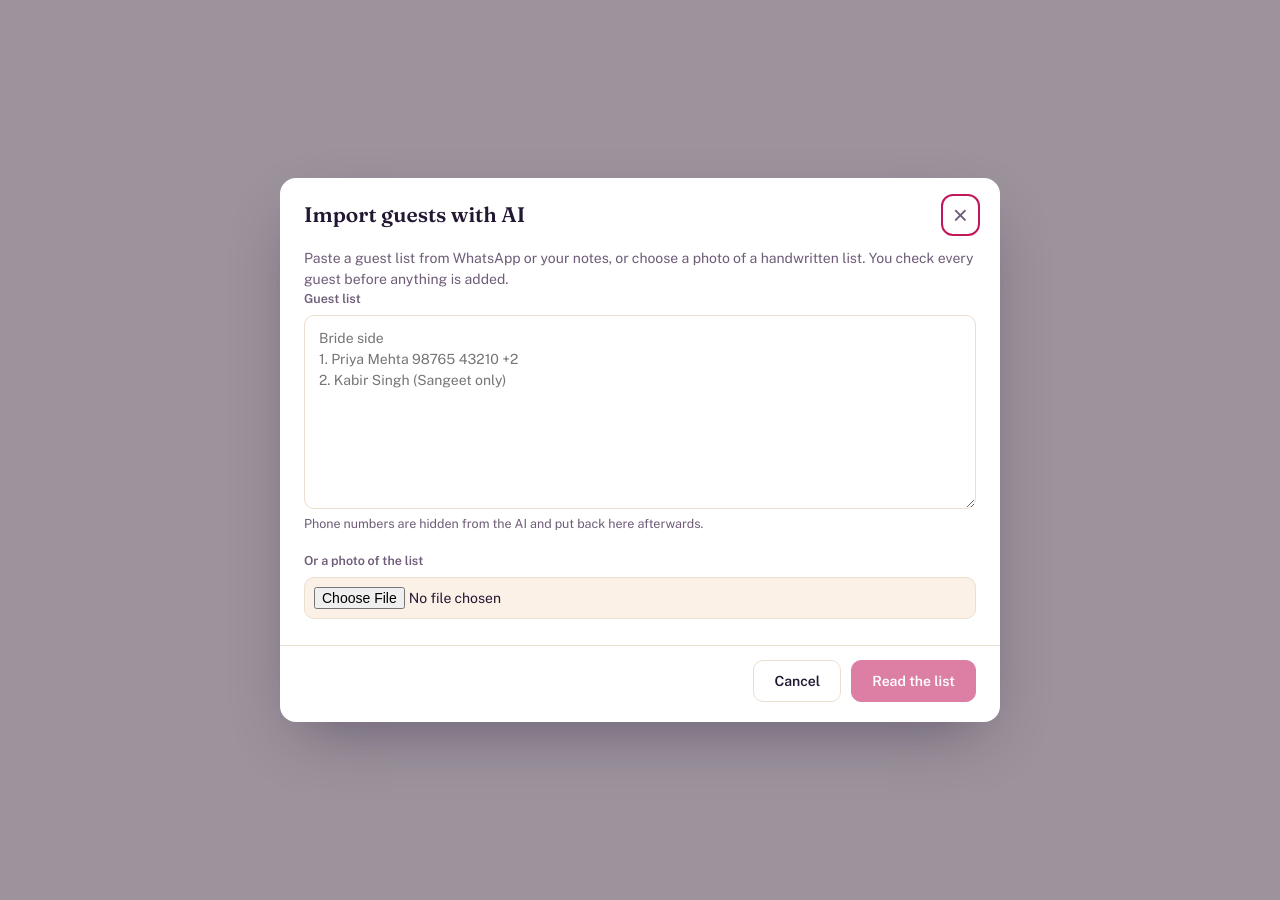
Test: Import guests with AI › reads a pasted list, lets the couple fix it, then imports the kept rows as CSV
Step 1. Type "Priya 98765 43210" into the text box labelled "Guest list" → [640, 412], box x1=304 y1=315 x2=976 y2=509
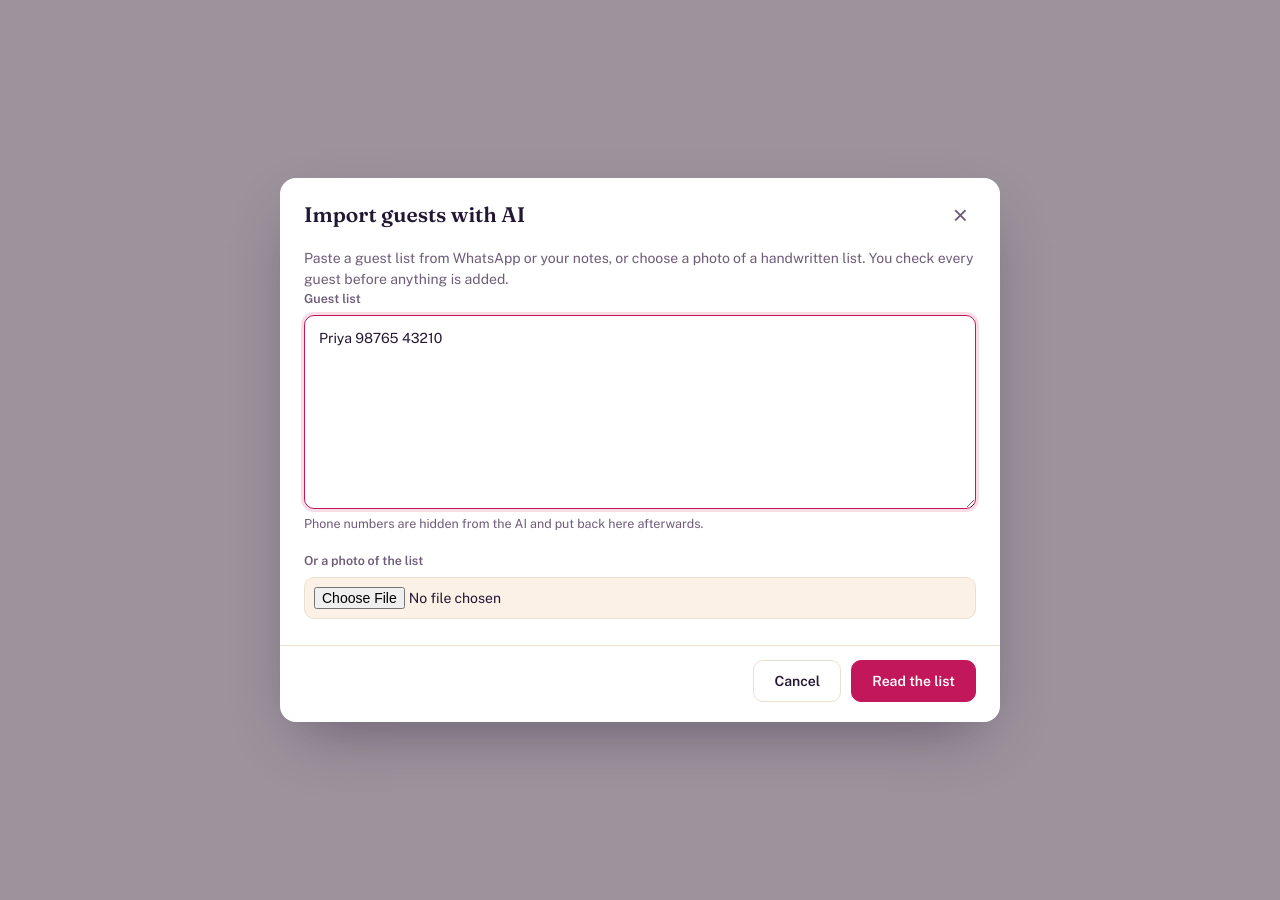
Step 2. Click the button "Read the list" → [914, 681], box x1=851 y1=660 x2=976 y2=702
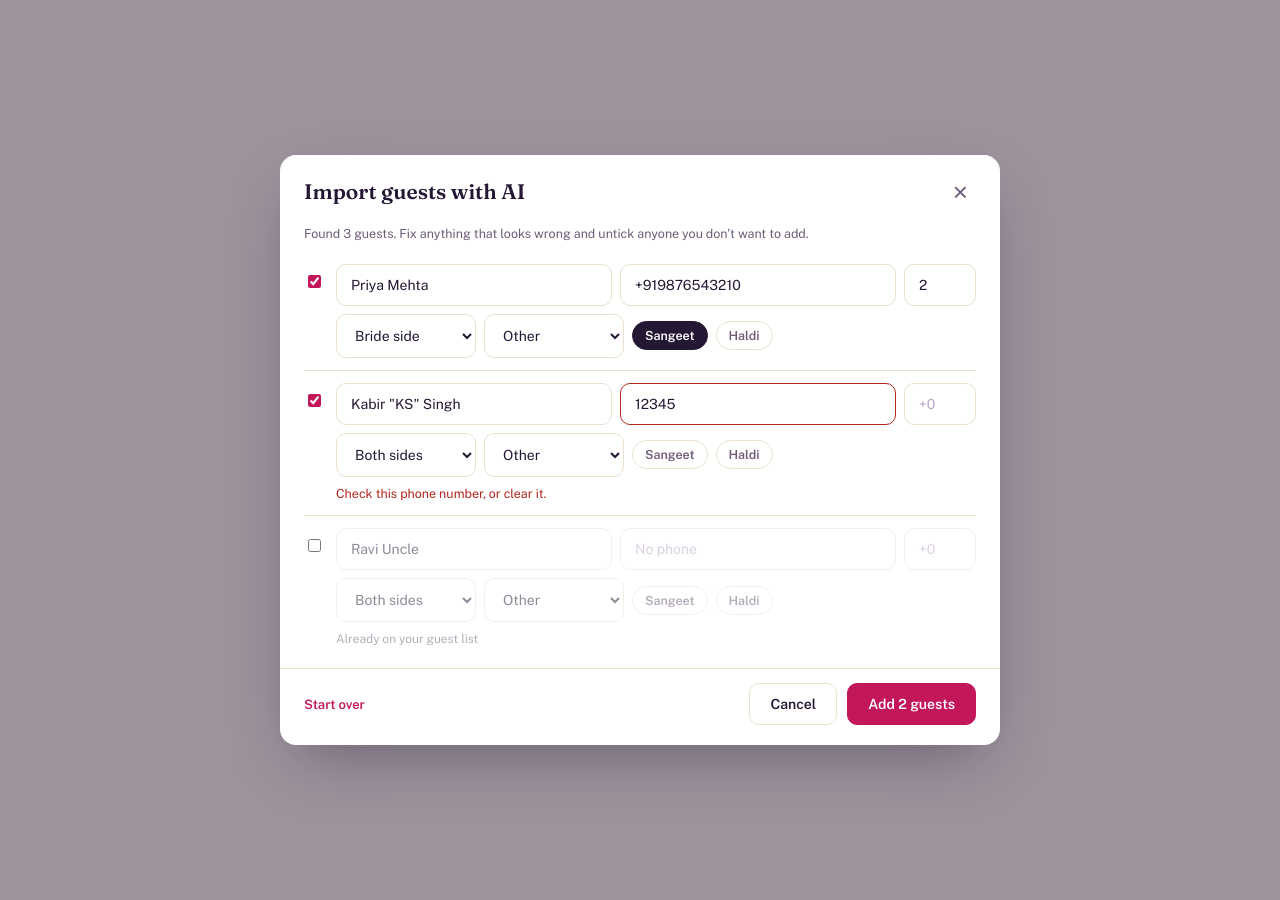
Result: the text "Check this phone number, or clear it." is shown at x1=336 y1=486 x2=546 y2=500
Result: the text "Already on your guest list" is shown at x1=336 y1=632 x2=478 y2=646
Result: the checkbox named "Add Ravi Uncle" is not checked at x1=308 y1=539 x2=321 y2=552
Step 3. Clear the field named "Phone for Kabir \"KS\" Singh" → [758, 404], box x1=620 y1=382 x2=896 y2=424
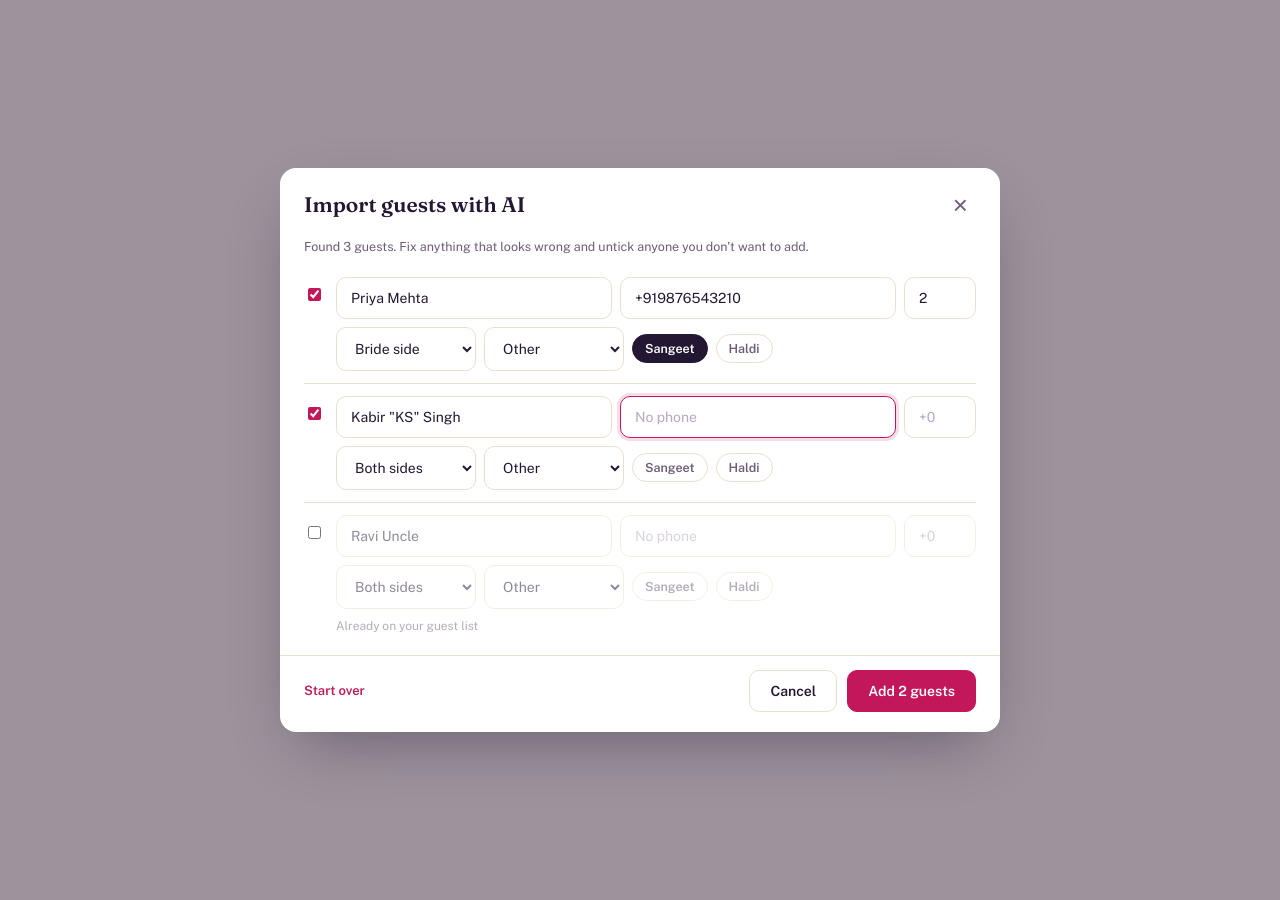
Step 4. Click the button with aria-label "Haldi for Priya Mehta" → [744, 349], box x1=716 y1=334 x2=772 y2=363
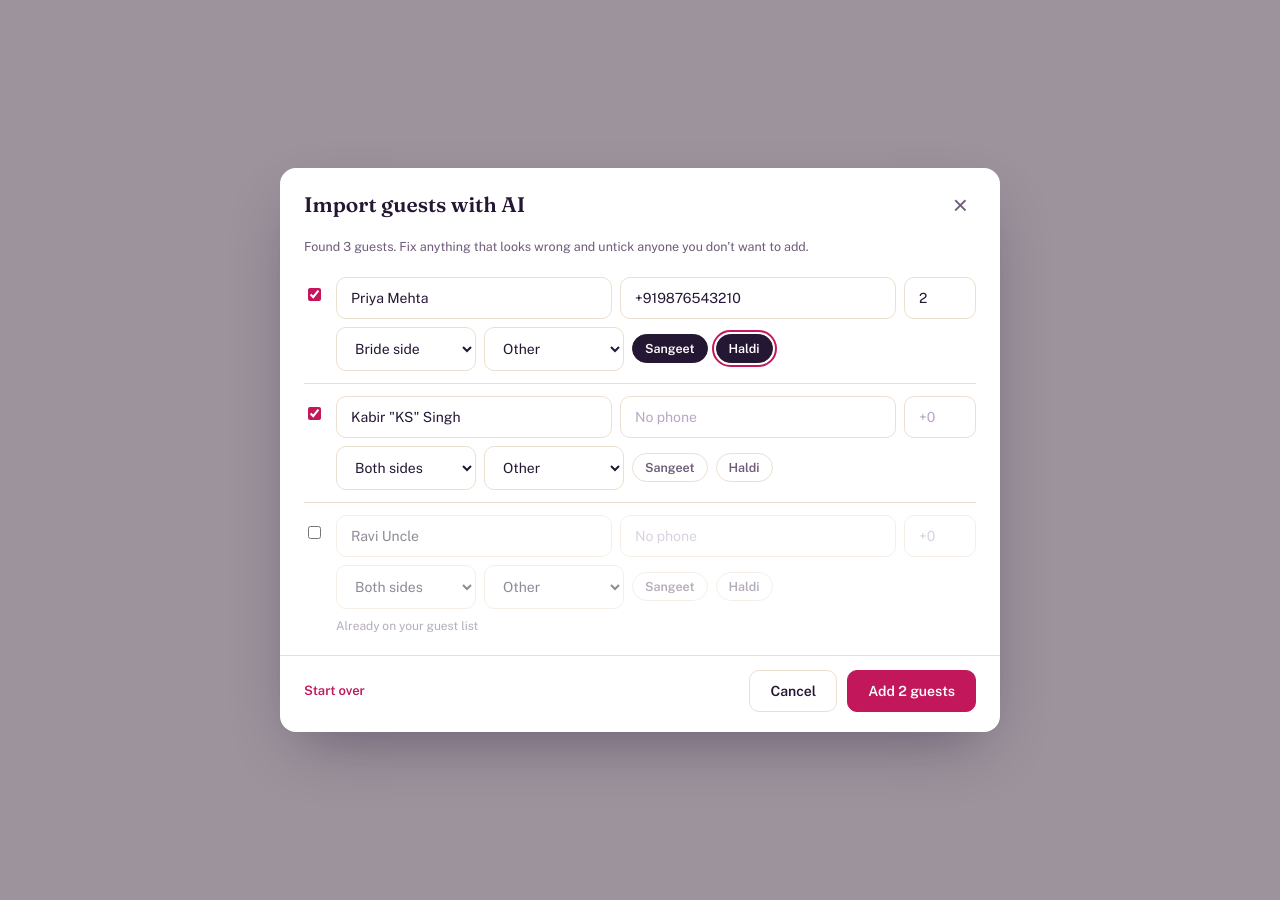
Step 5. Select "Groom side" in the dropdown named "Side for Kabir \"KS\" Singh" → [406, 468], box x1=336 y1=446 x2=476 y2=490
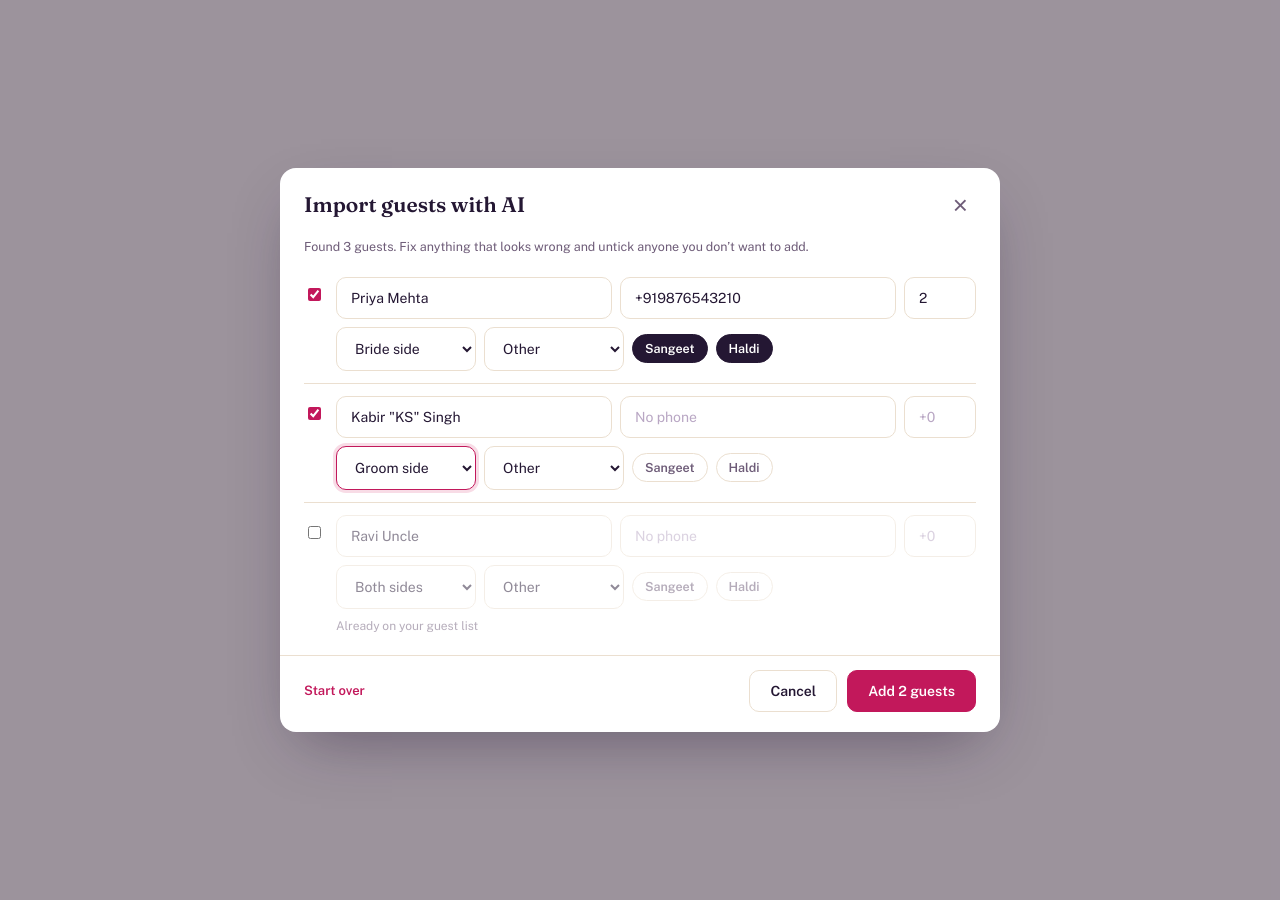
Step 6. Click the button "Add 2 guests" → [912, 691], box x1=847 y1=670 x2=976 y2=712
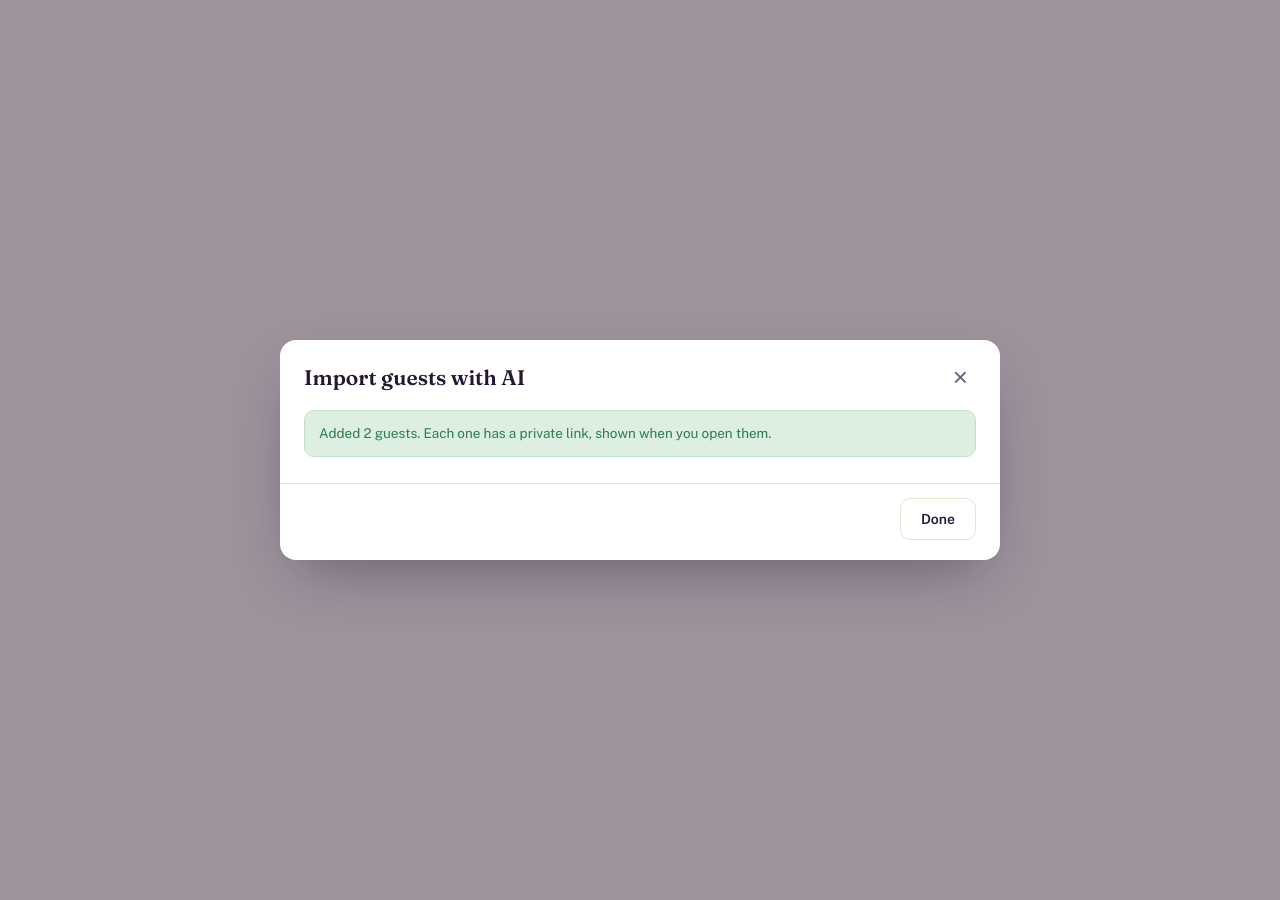
Result: the message shows "Added 2 guests." at x1=304 y1=410 x2=976 y2=457
